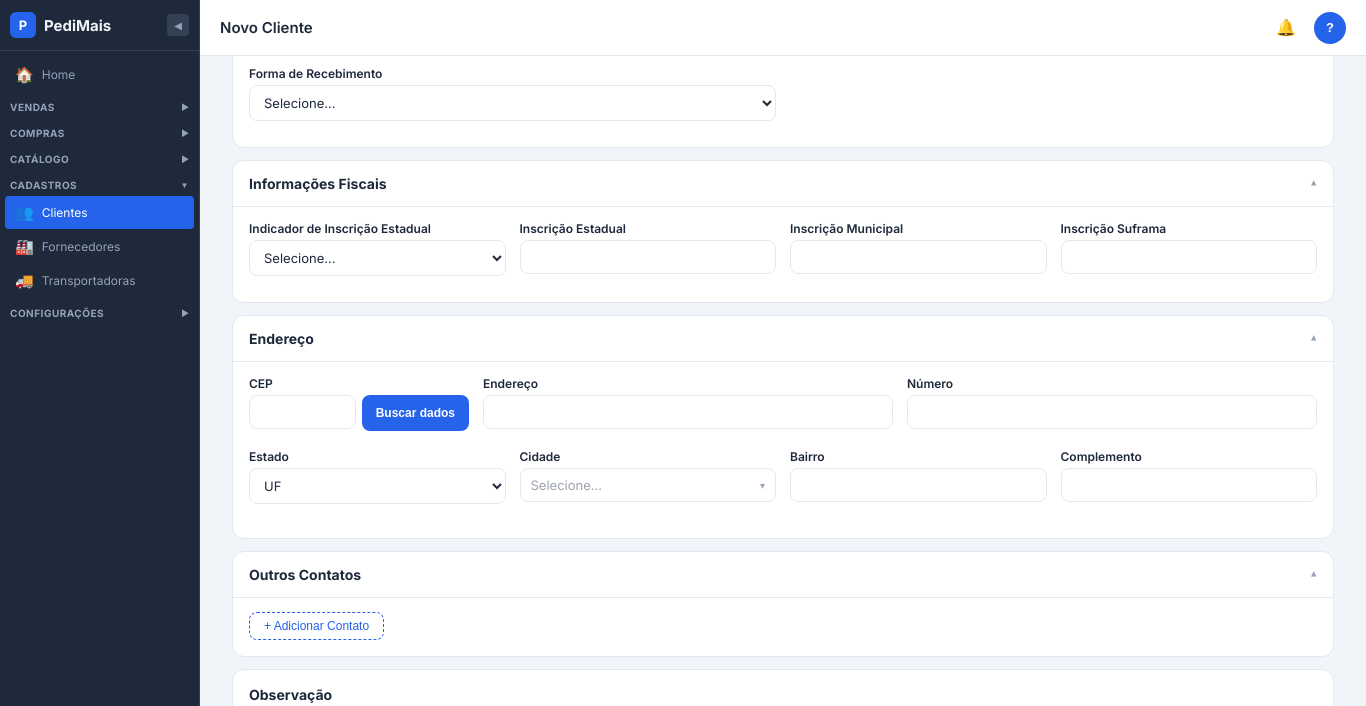
ClienteFormView › shows an inline validation error for an incomplete CEP
The width and height of the screenshot is (1366, 706).
(page scrolled)
Type "013" into the field with test id "cep" at (302,412), box x1=249 y1=395 x2=356 y2=429
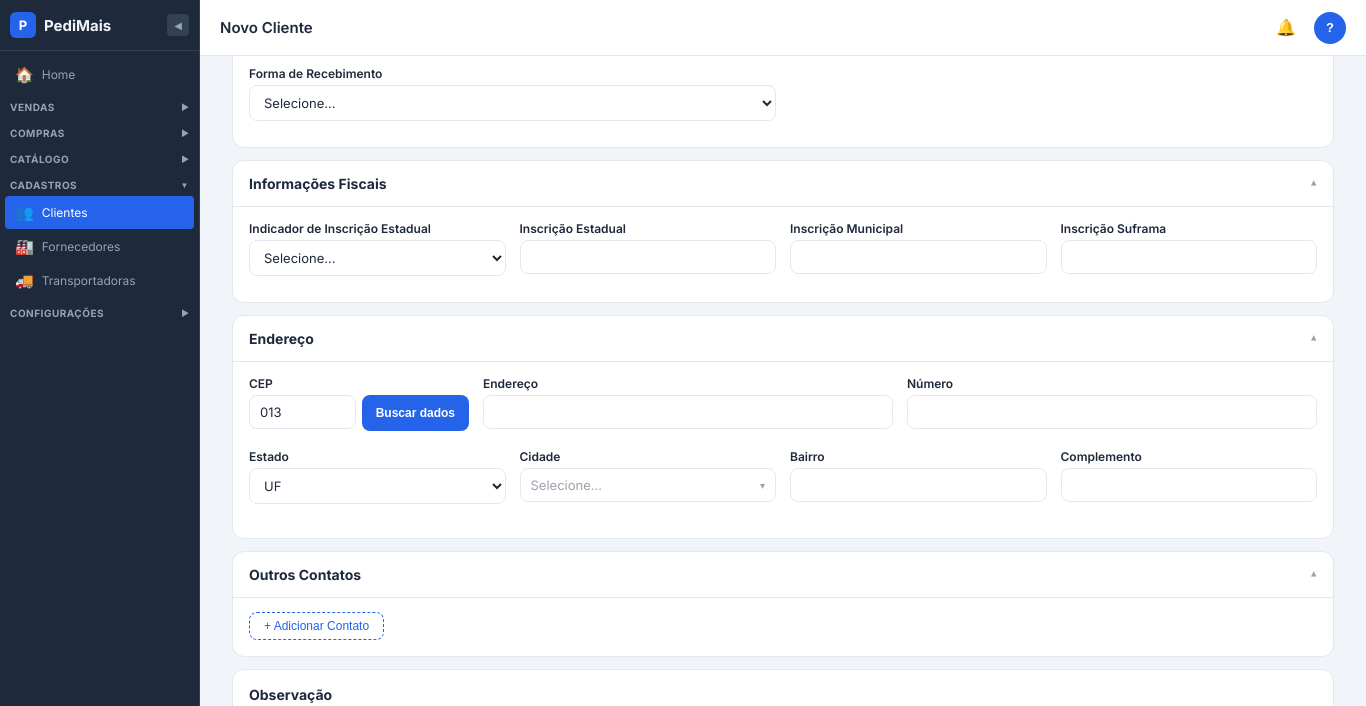
Leave the field with test id "cep", box x1=249 y1=395 x2=356 y2=429
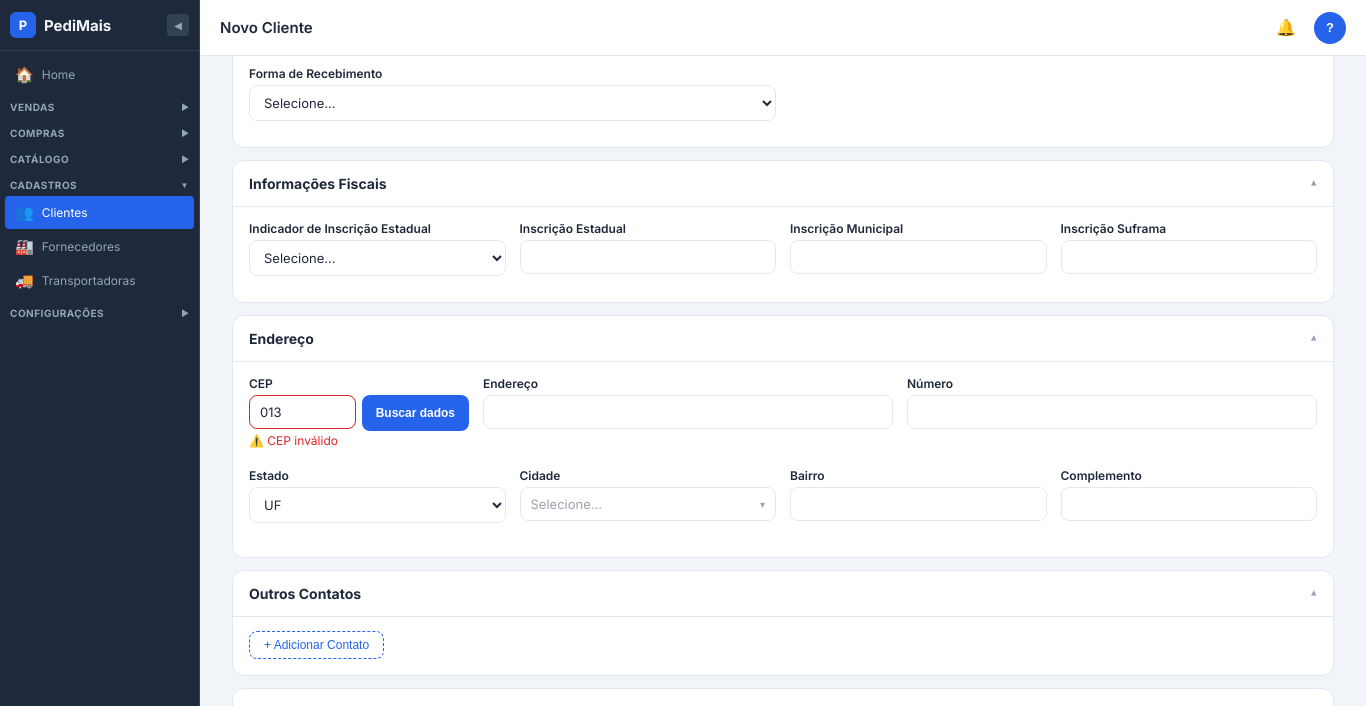
expect the text "CEP inválido" is shown: met, box x1=249 y1=433 x2=338 y2=448
